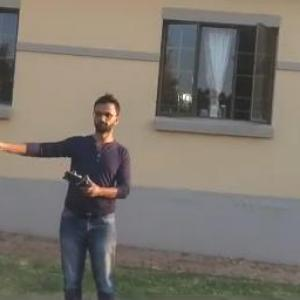follow: (0, 84, 137, 300)
